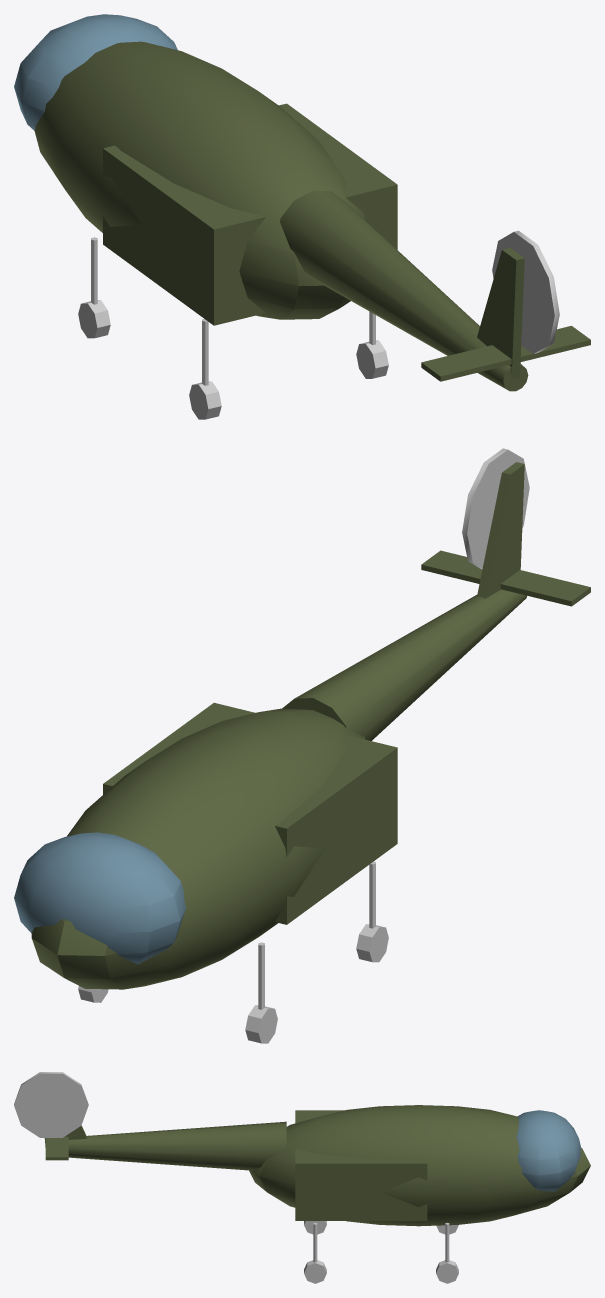
File: z20_lakota.obj
3 renders of one model, top to bottom at view 1: azimuth 30°, elevation 25°; view 2: azimuth 150°, elevation 25°; view 3: azimuth 270°, elevation 25°, orthographic. The views are drawn at different scales.
Parts seen in each view (by area): view 1: model; view 2: model; view 3: model.
Boxes of the visible parts, x1,y1,x2,y2 form: model: (14,14,590,419); model: (14,448,590,1043); model: (14,1072,590,1283).
Size of the model in its own units: 2.3 by 3.64 by 10.05.
